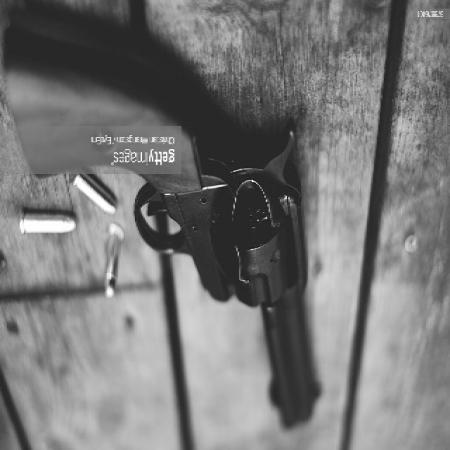Pistol: (1, 26, 325, 436)
